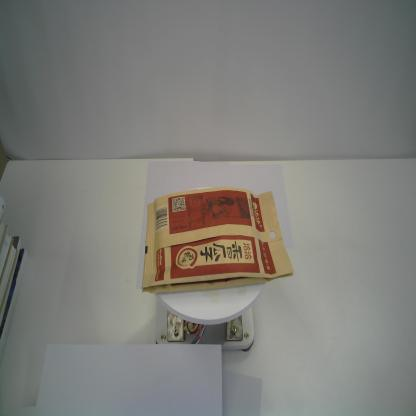Dried Food: (140, 188, 296, 297)
